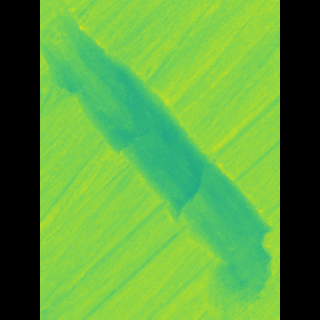Loch: (69, 5, 246, 308)
